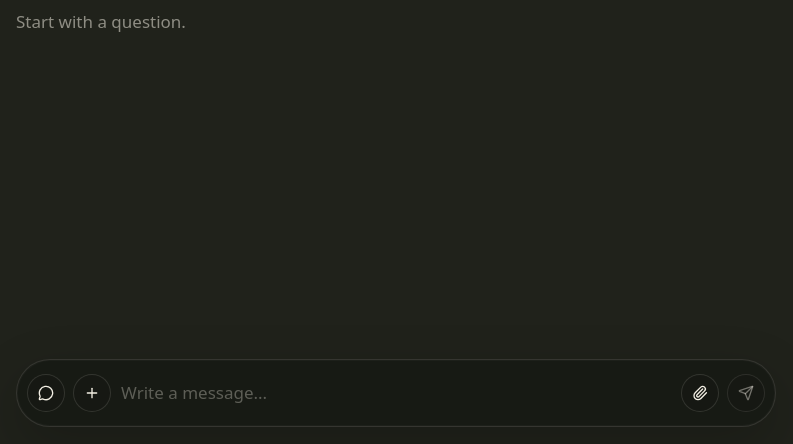
Test: Noloong app chat regression harness › boots the browser development preview into a ready chat runtime
Type "verify dev preview" into the text box with placeholder "Write a message...". click: (396, 393)
box: x1=121 y1=382 x2=671 y2=404
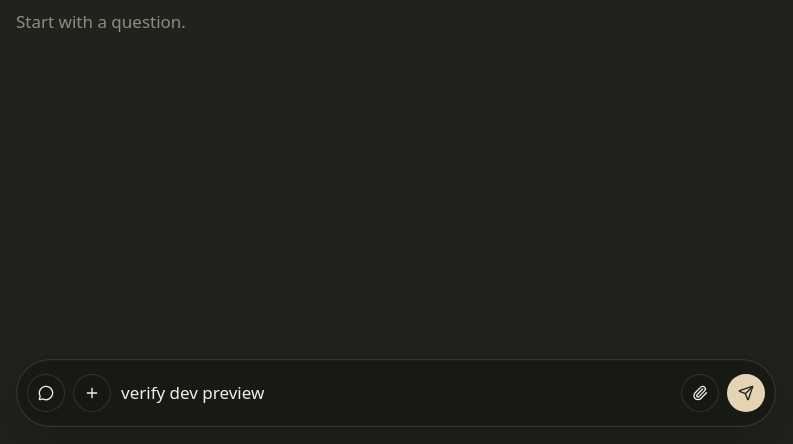
Click the button named "Send message". click: click(746, 393)
box: x1=727 y1=374 x2=765 y2=412
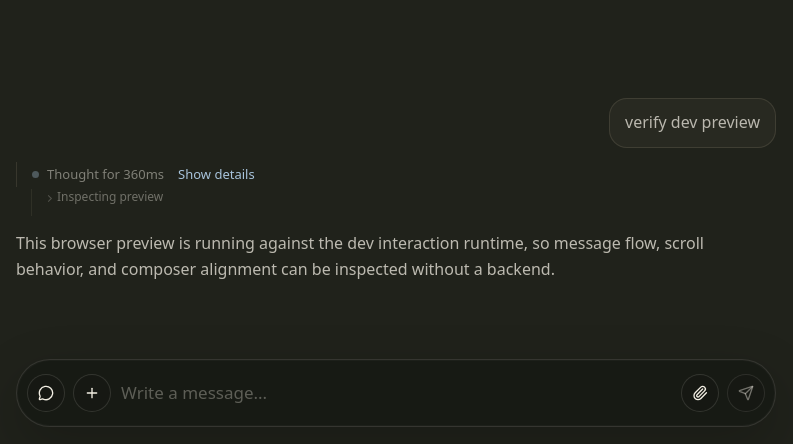
Expected: the text "verify dev preview" is shown, x1=625 y1=110 x2=760 y2=135
Expected: the text "dev interaction runtime" is shown, x1=16 y1=232 x2=704 y2=280
